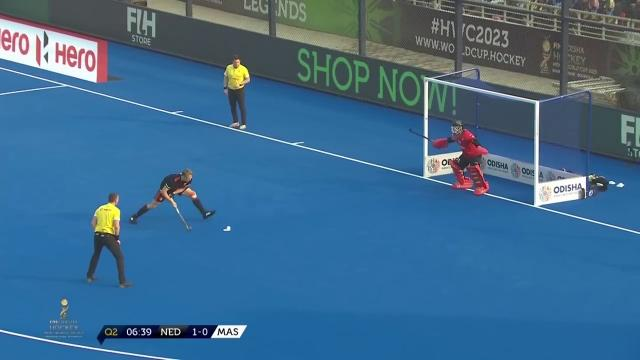ball: (220, 221, 239, 236)
